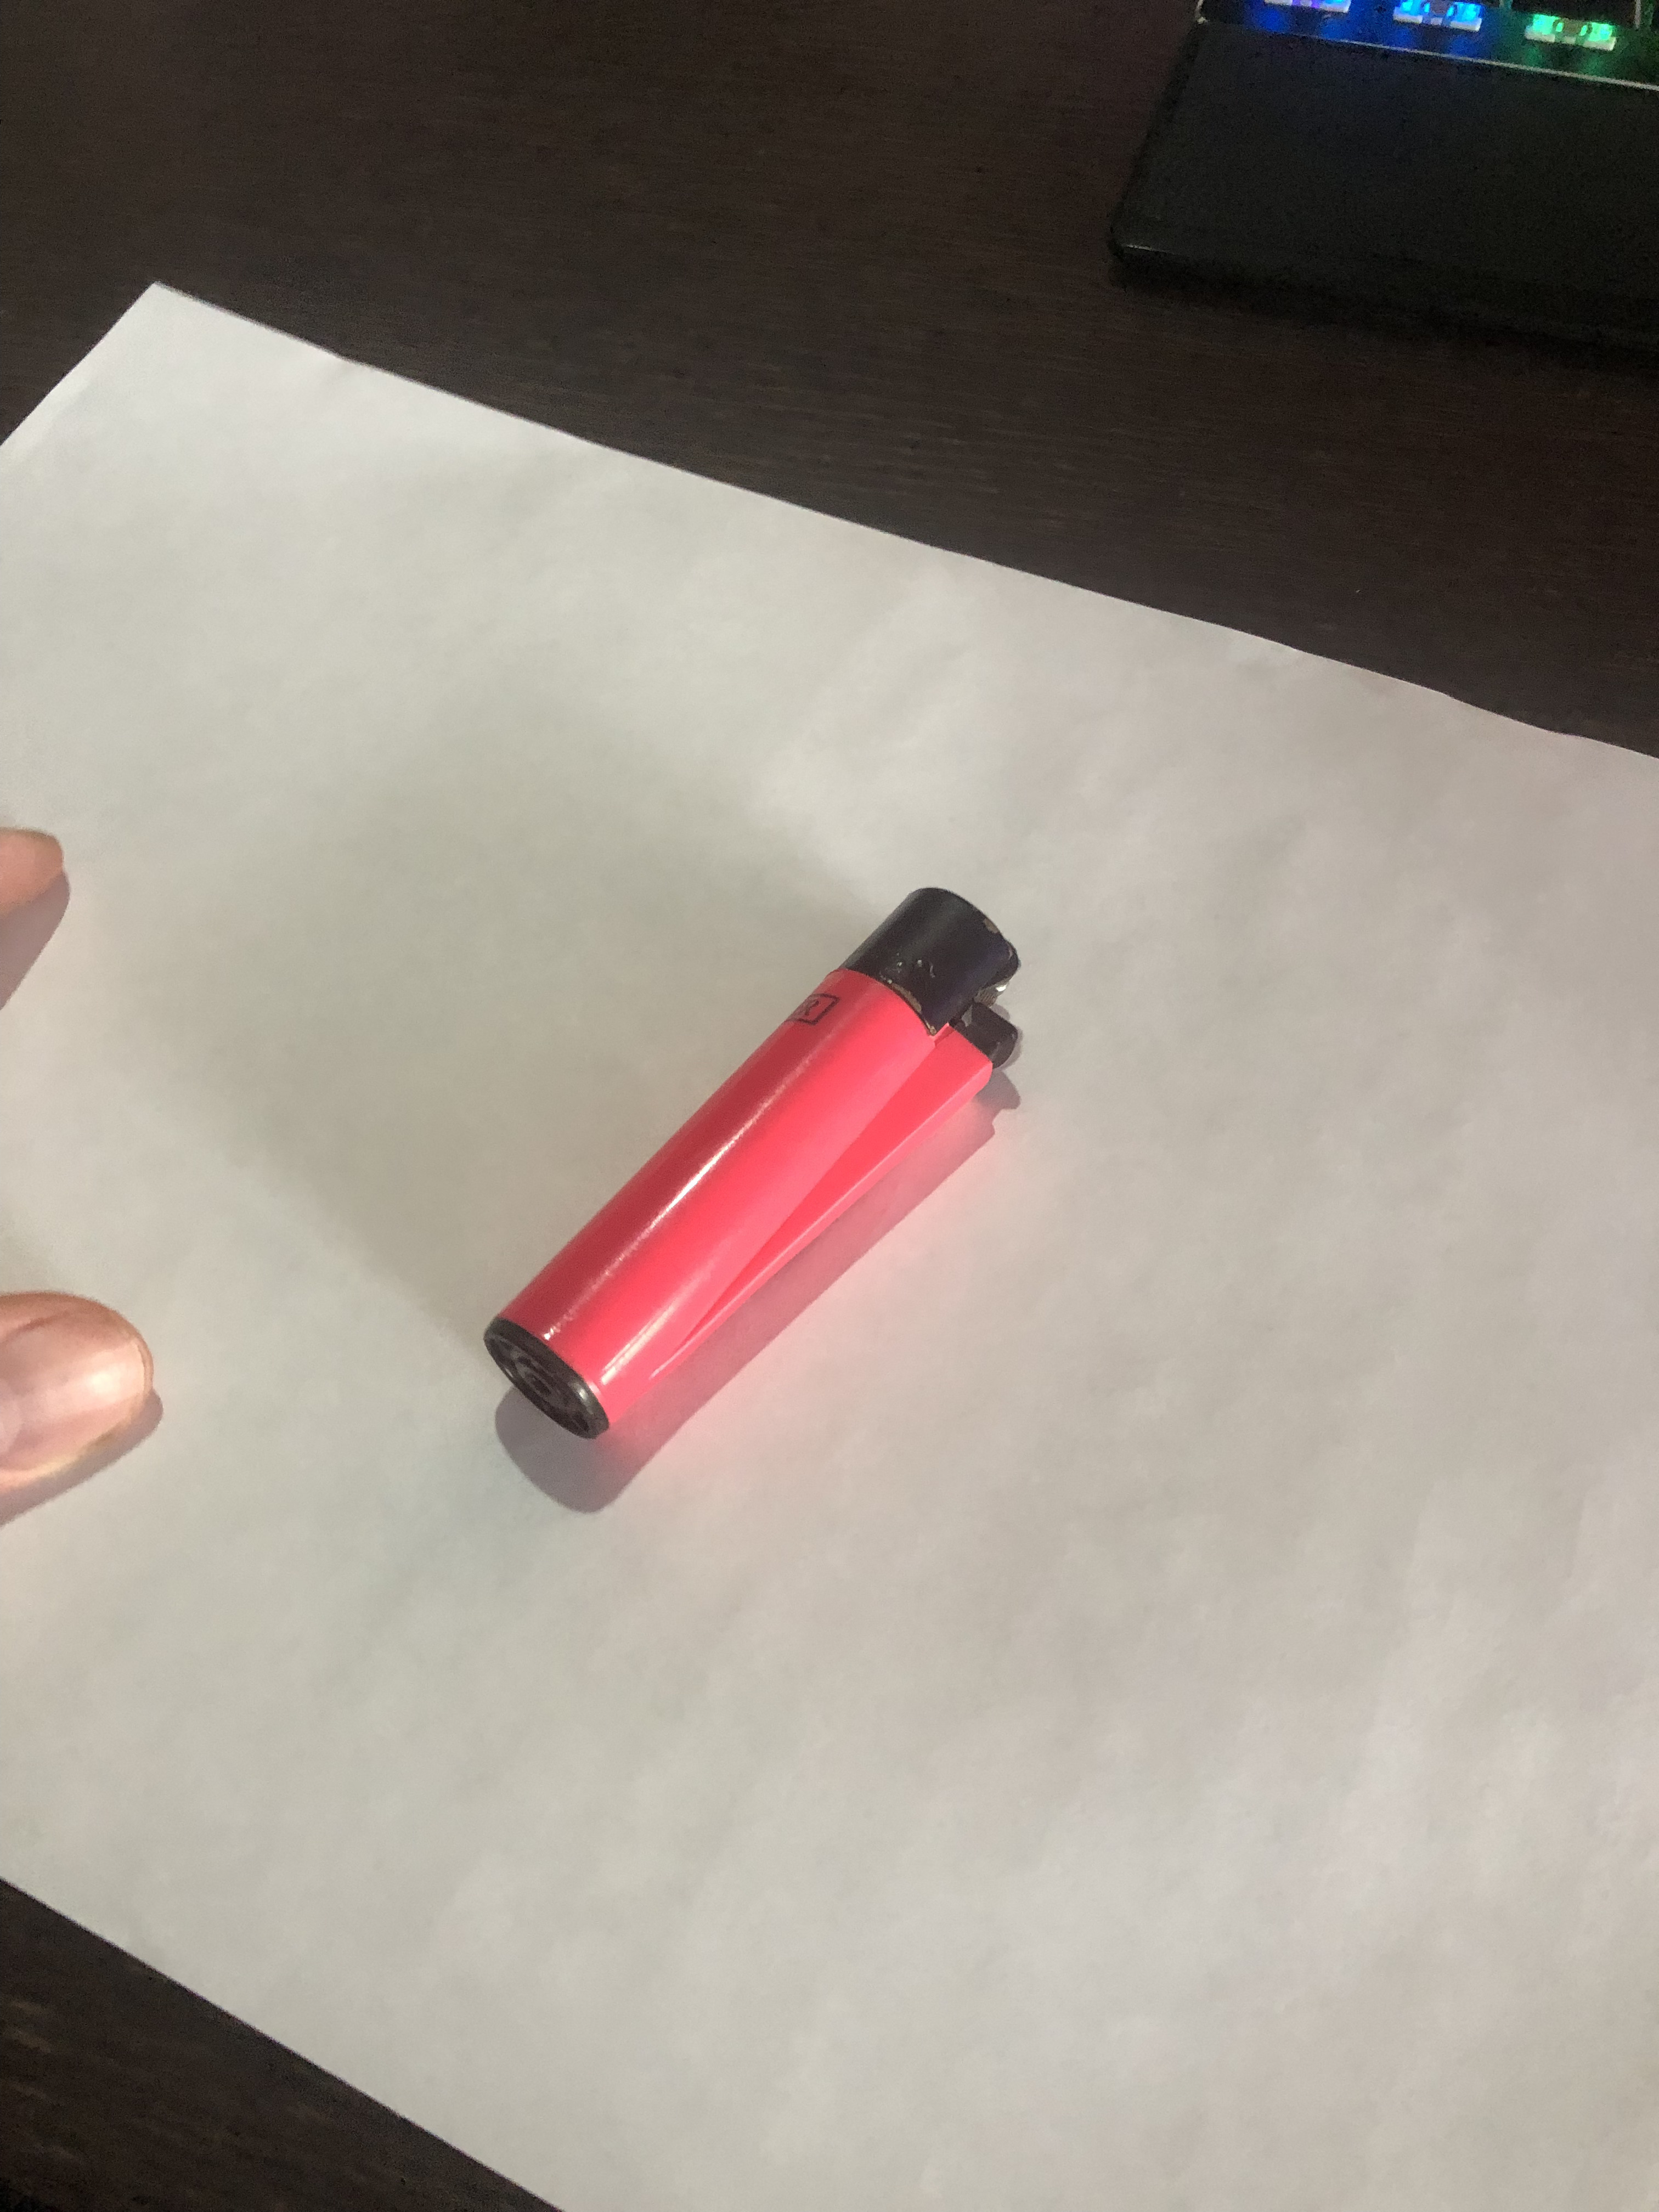Mechero: (479, 874, 1033, 1440)
